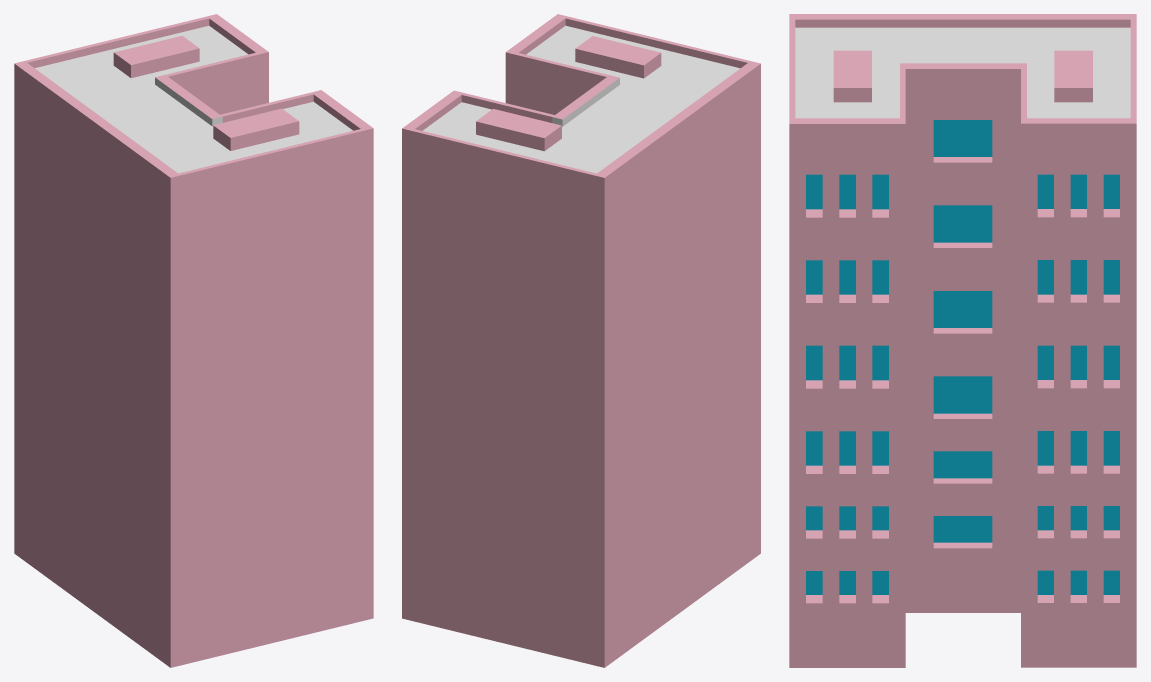
Rendered from pink_building.fbx.
3 renders of one model, left to right at view 1: azimuth 30°, elevation 25°; view 2: azimuth 150°, elevation 25°; view 3: azimuth 270°, elevation 25°, orthographic. The views are drawn at different scales.
Parts seen in each view (by area): view 1: Cube; view 2: Cube; view 3: Cube.
Part boxes in pixels (x1,y1,x2,y2): Cube: [14, 14, 373, 667]; Cube: [402, 14, 760, 667]; Cube: [789, 14, 1136, 667].
Size of the model in its own units: 1500 by 3500 by 2000.
